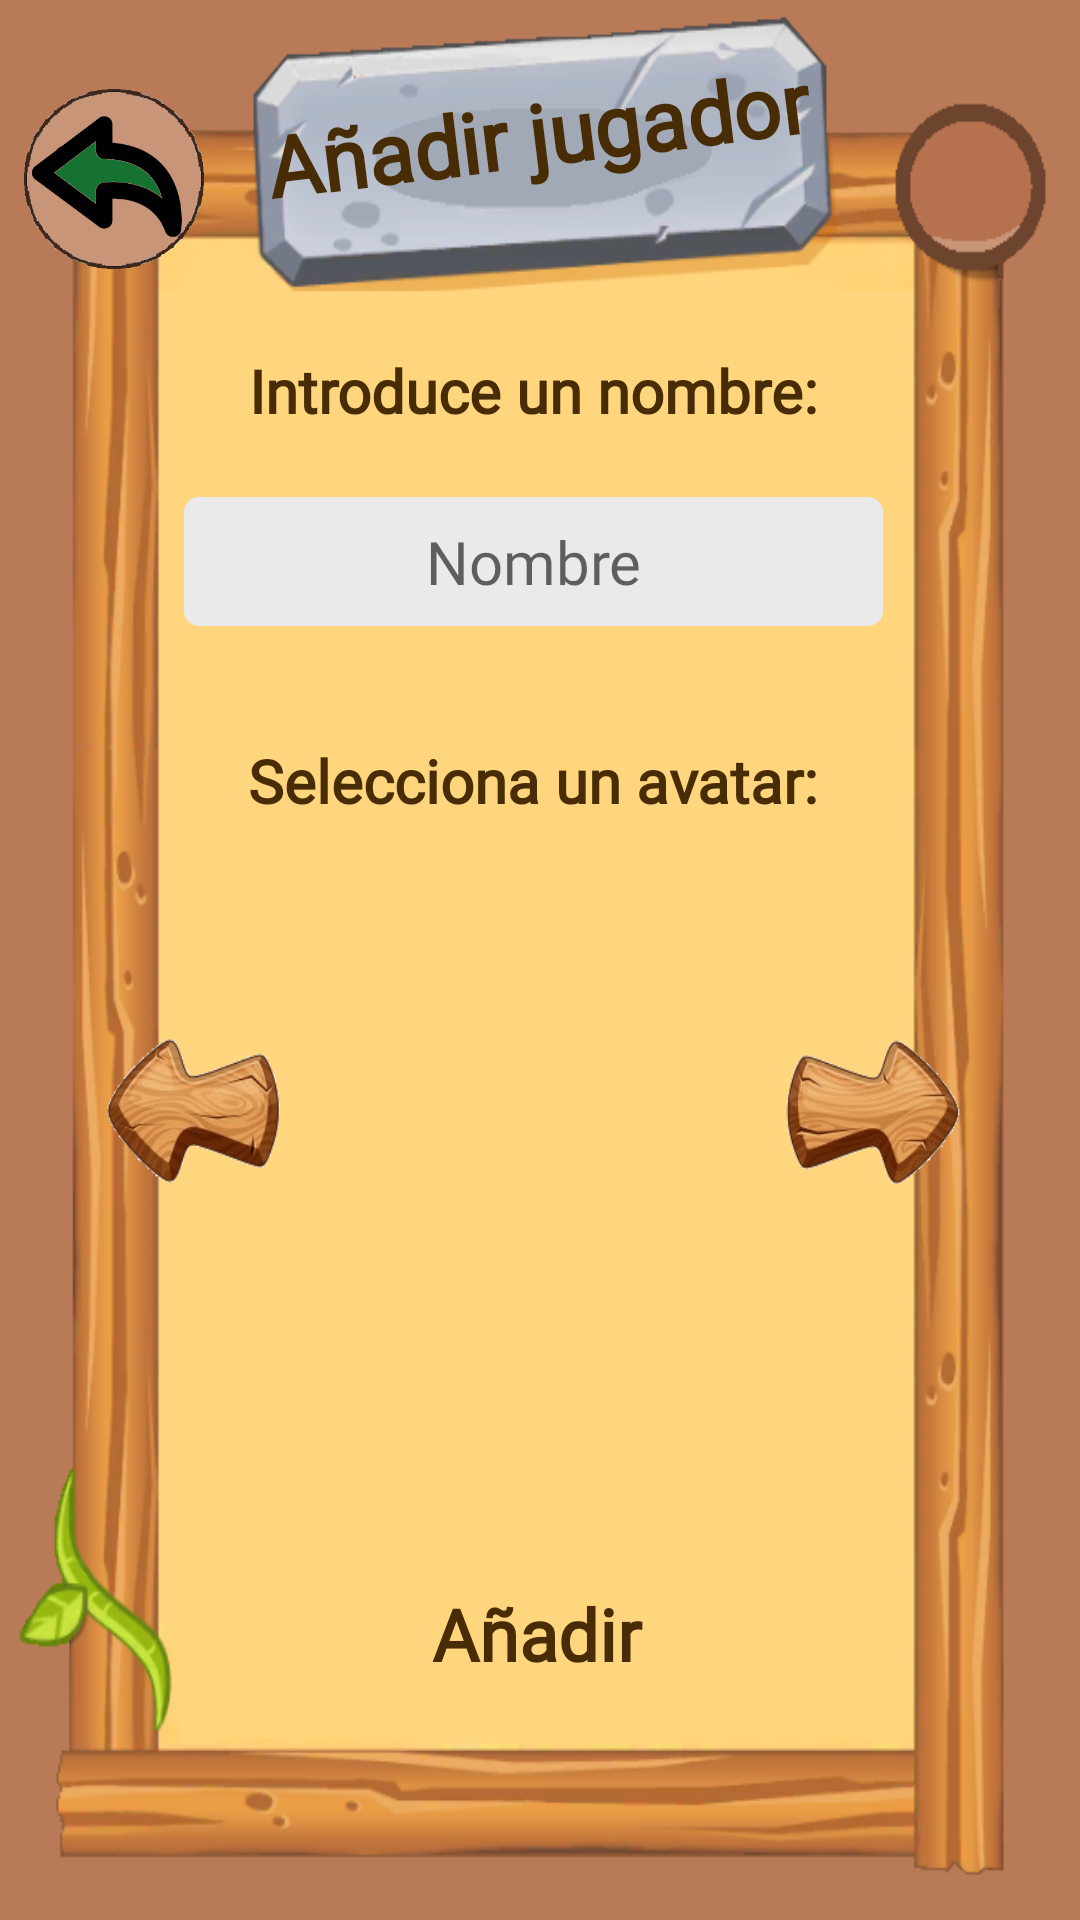

Named icons in this screenshot (1080x1920) and their centers, point (x, y):
back: point (114, 179)
next: point (874, 1113)
previous: point (192, 1113)
